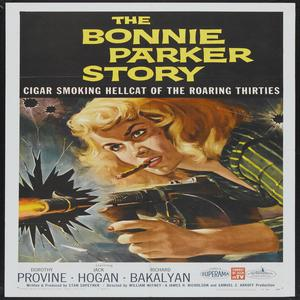cigarette: (112, 159, 151, 183)
